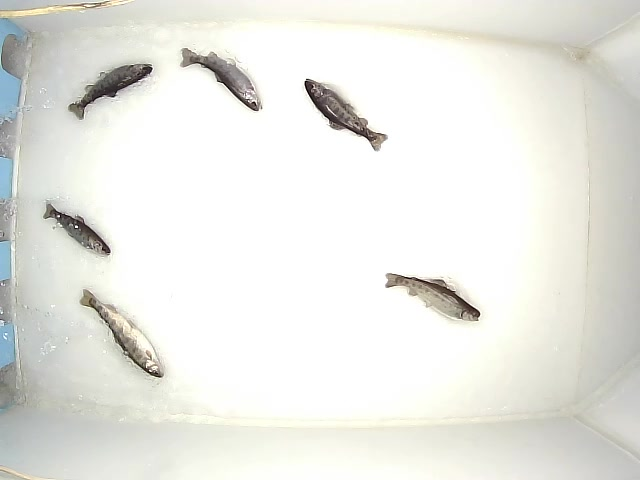fish: (78, 288, 166, 379), (303, 78, 389, 153), (178, 47, 263, 113), (66, 62, 154, 121), (384, 272, 481, 324), (41, 200, 112, 258)
